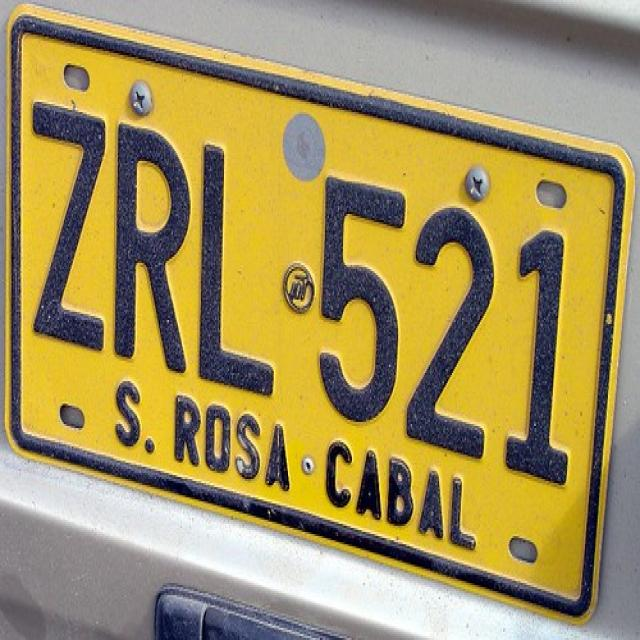placas: (26, 76, 585, 500)
